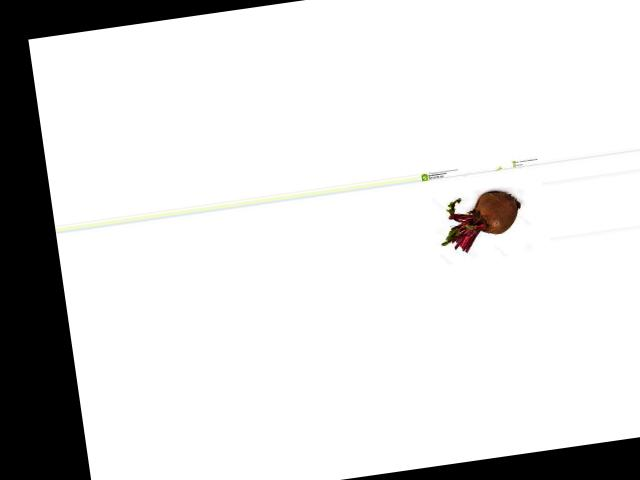beet: (436, 188, 526, 255)
